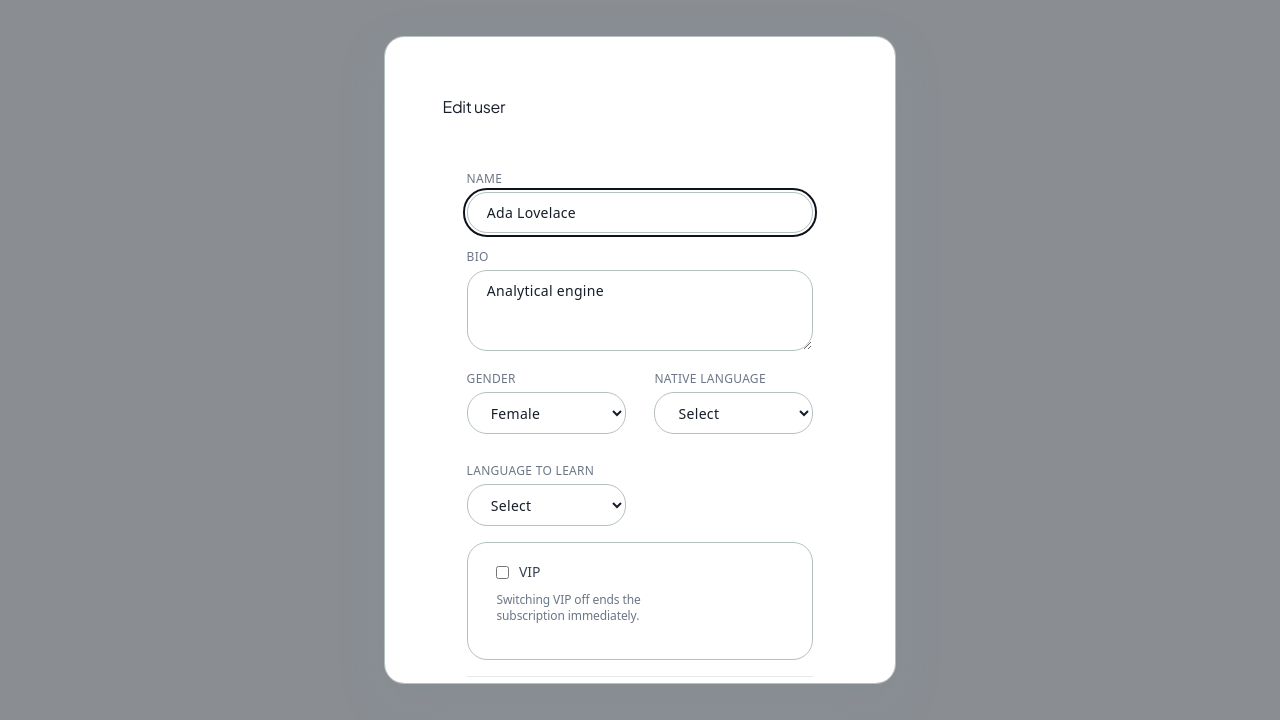
Test: stays open on a failure and shows the backend's message
Replace the text in the field with test id "edit-user-name" with "Ada L.". click: [640, 213]
box: [467,192,813,233]
(page scrolled)
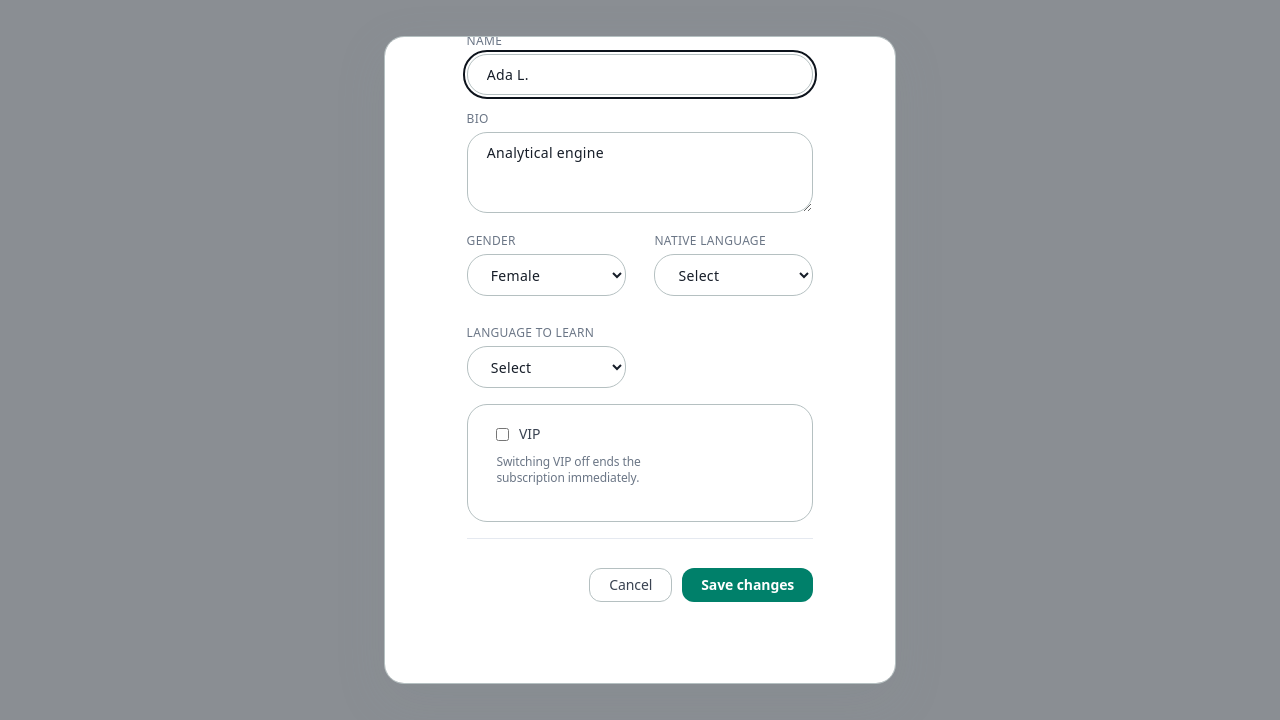
Click the button with test id "edit-user-submit". click: [748, 585]
box: [682,568,813,602]
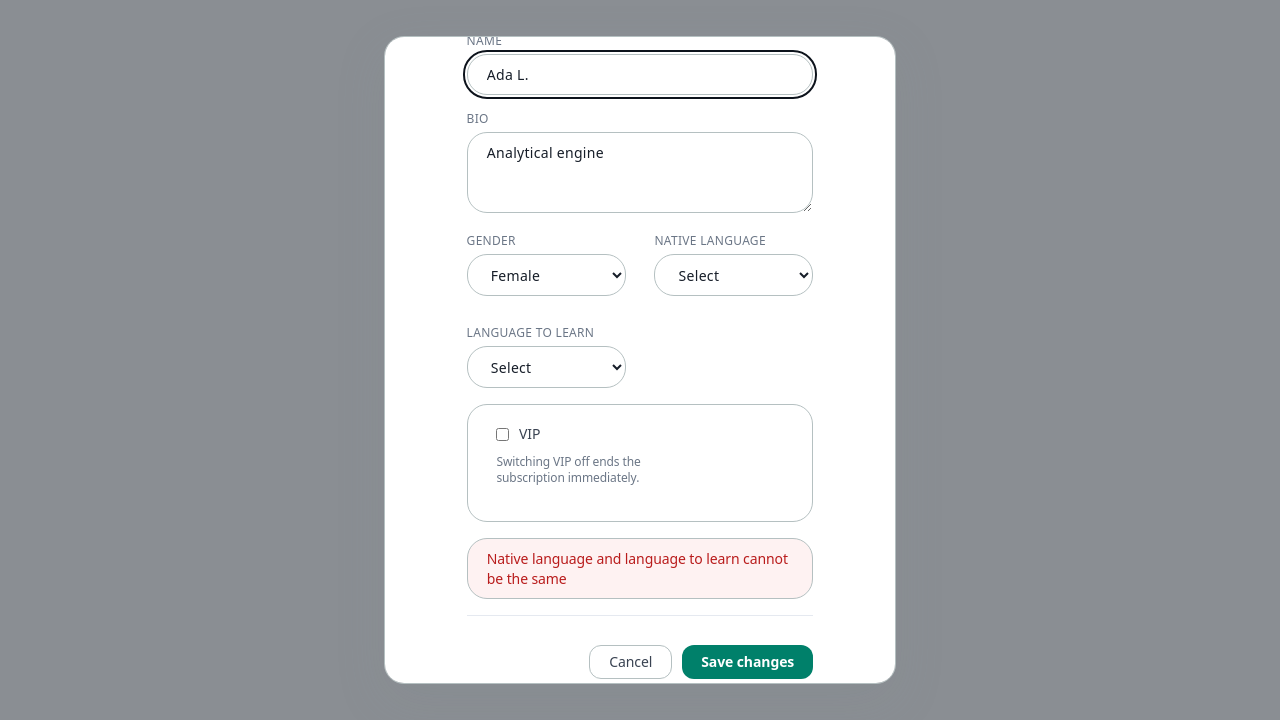
Expected: the message with test id "edit-user-form-error" reads "Native language and language to learn cannot be the same", [487,549,788,588]
